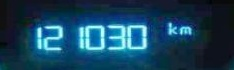0: (125, 22, 147, 49), (83, 23, 105, 50)
1: (32, 24, 43, 51), (76, 23, 84, 50)
2: (44, 23, 64, 50)
3: (106, 22, 125, 50)
X: (167, 21, 178, 34), (180, 25, 191, 34)
